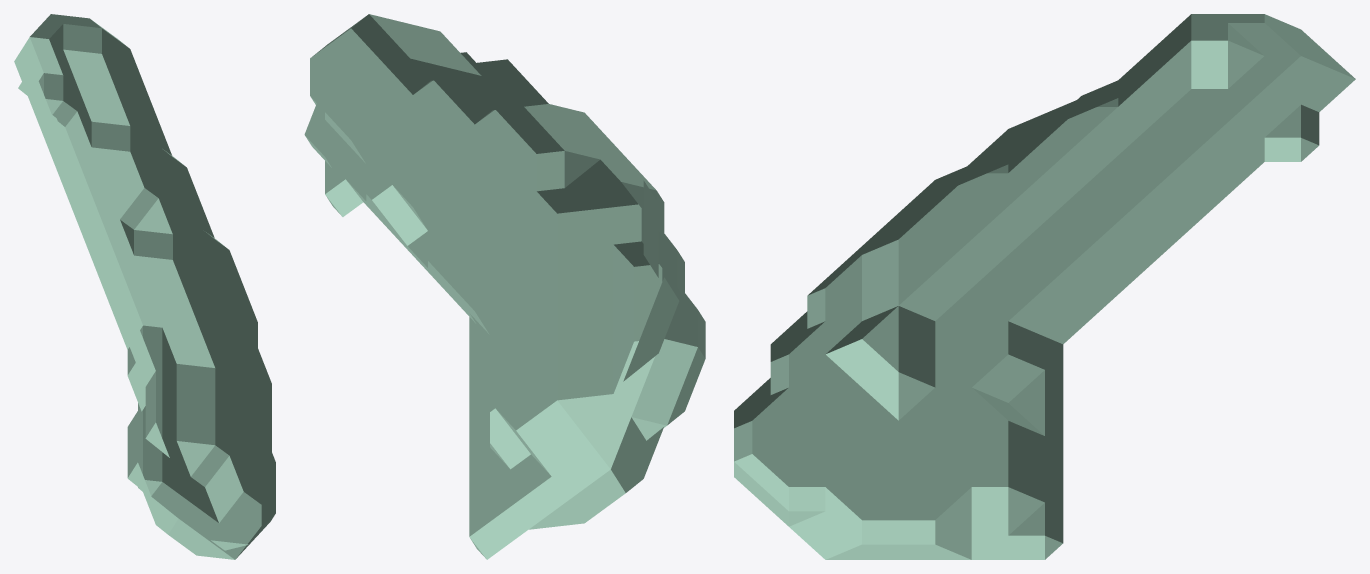
File: region_0142_TelV__telencephalic_ventricles_.glb
3 renders of one model, left to right at view 1: azimuth 30°, elevation 25°; view 2: azimuth 150°, elevation 25°; view 3: azimuth 270°, elevation 25°, orthographic. The views are drawn at different scales.
Visible parts, largest first — view 1: world; view 2: world; view 3: world.
Part boxes in pixels (bbox=[...]): world: bbox=[14, 14, 275, 559]; world: bbox=[304, 14, 705, 559]; world: bbox=[734, 14, 1355, 559].
Bounding box in the file's own units: 0.032 × 0.128 × 0.136.
